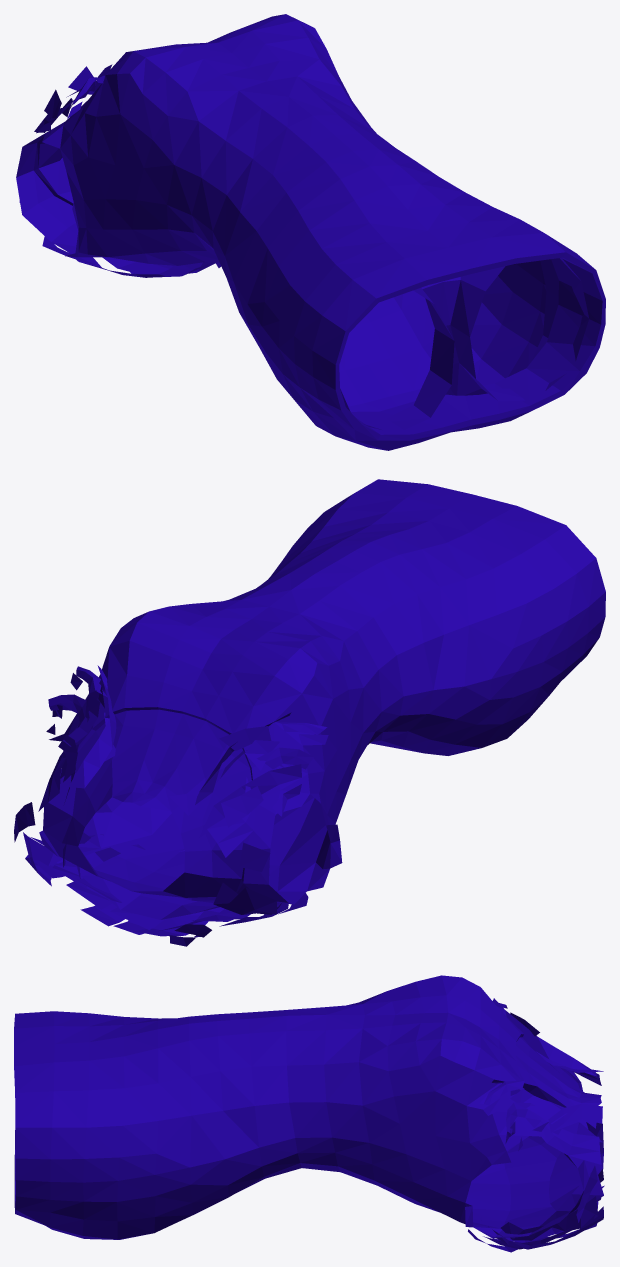
File: female top2.glb
The picture shows the model from 3 angles, top to bottom: view 1: azimuth 30°, elevation 25°; view 2: azimuth 150°, elevation 25°; view 3: azimuth 270°, elevation 25°; orthographic projection. The views are drawn at different scales.
Visible parts, largest first — view 1: imagetostl_mesh1; view 2: imagetostl_mesh1; view 3: imagetostl_mesh1.
Boxes of the visible parts, <box> form: imagetostl_mesh1: <box>16,14,605,450</box>; imagetostl_mesh1: <box>14,479,605,946</box>; imagetostl_mesh1: <box>14,975,604,1252</box>.
Bounding box in the file's own units: 1.06 × 0.9761 × 2.29.
